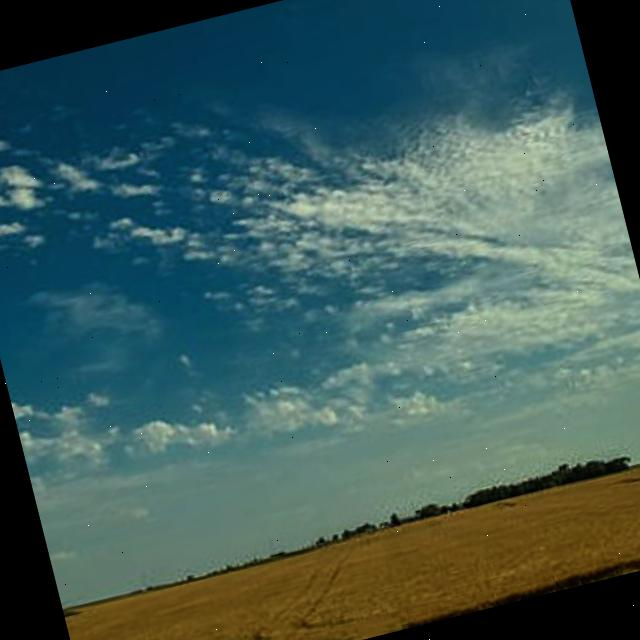Cs: (160, 69, 640, 494)
